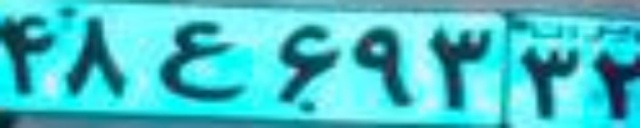2: (591, 51, 638, 120)
3: (429, 27, 491, 109), (516, 46, 579, 118)
4: (0, 15, 56, 94)
6: (269, 23, 341, 102)
8: (64, 14, 124, 96)
9: (352, 26, 410, 108)
ain: (159, 19, 246, 101)
